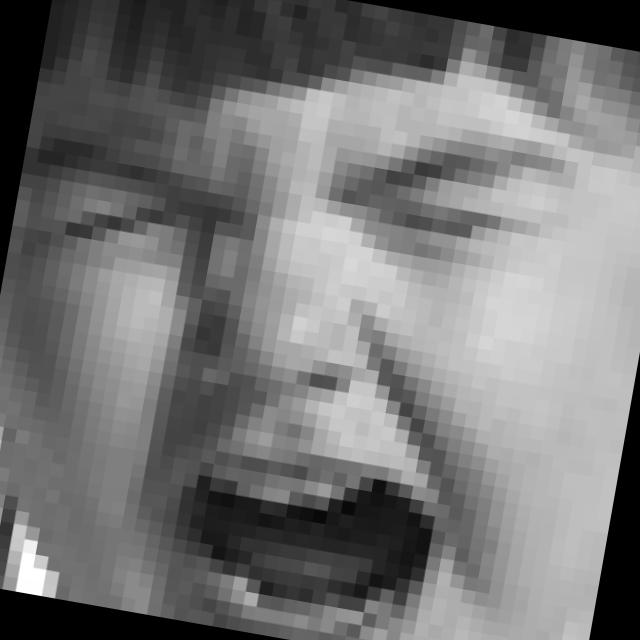angry: (0, 51, 582, 640)
